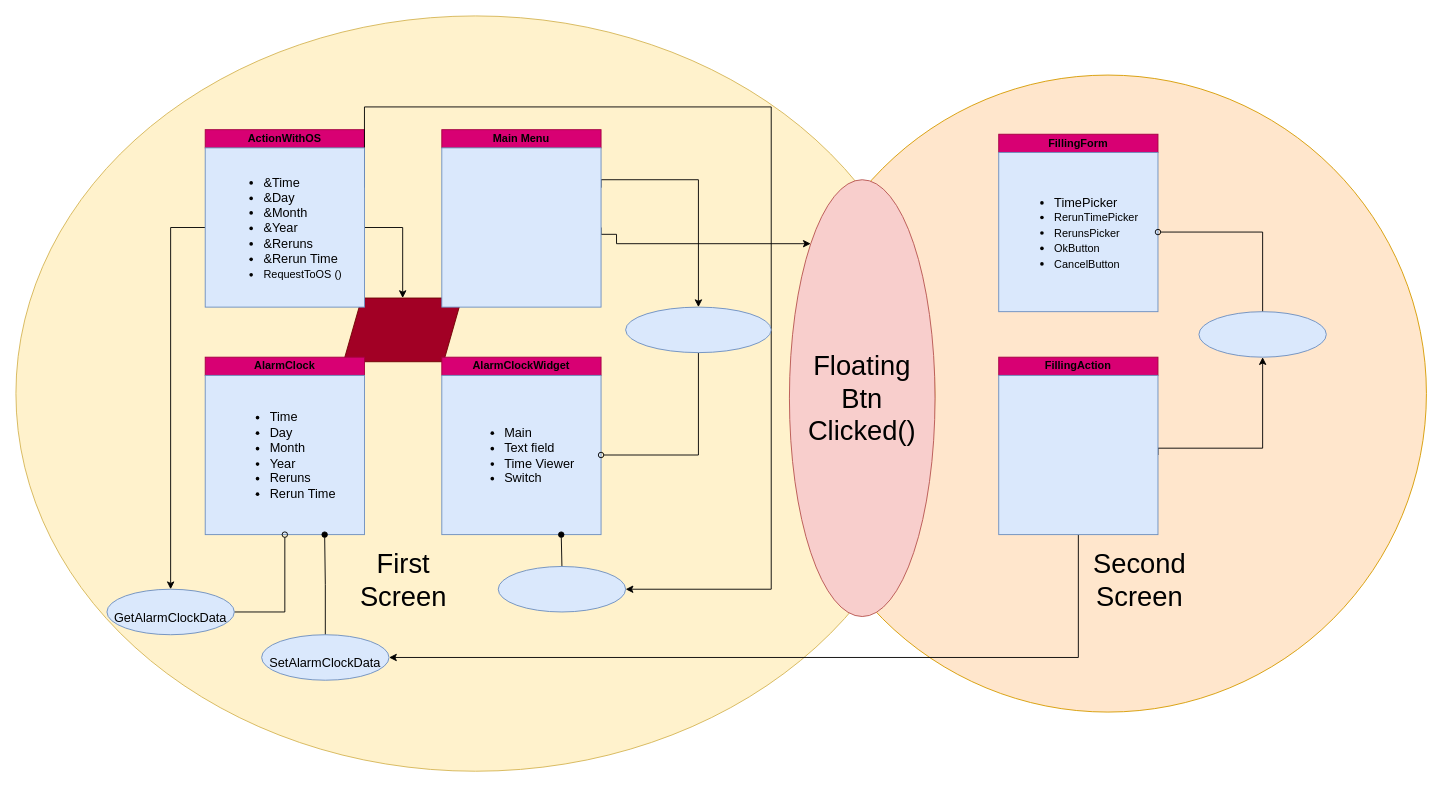
The diagram is 1442 pixels wide and 787 high, and some of its shapes have lost their labels. Here are the shapes that lost their labels. From the top down, the centre of each, then its label:
(521,227): List of AlarmClockWidget Add FloatingButton Main Legend
(402,329): operating system
(698,329): AddAlarmClockWidget
(1262,334): DataGrubber()
(1078,454): OkButtonClicked() CancelButtonClicked()
(561,589): FillingFields
